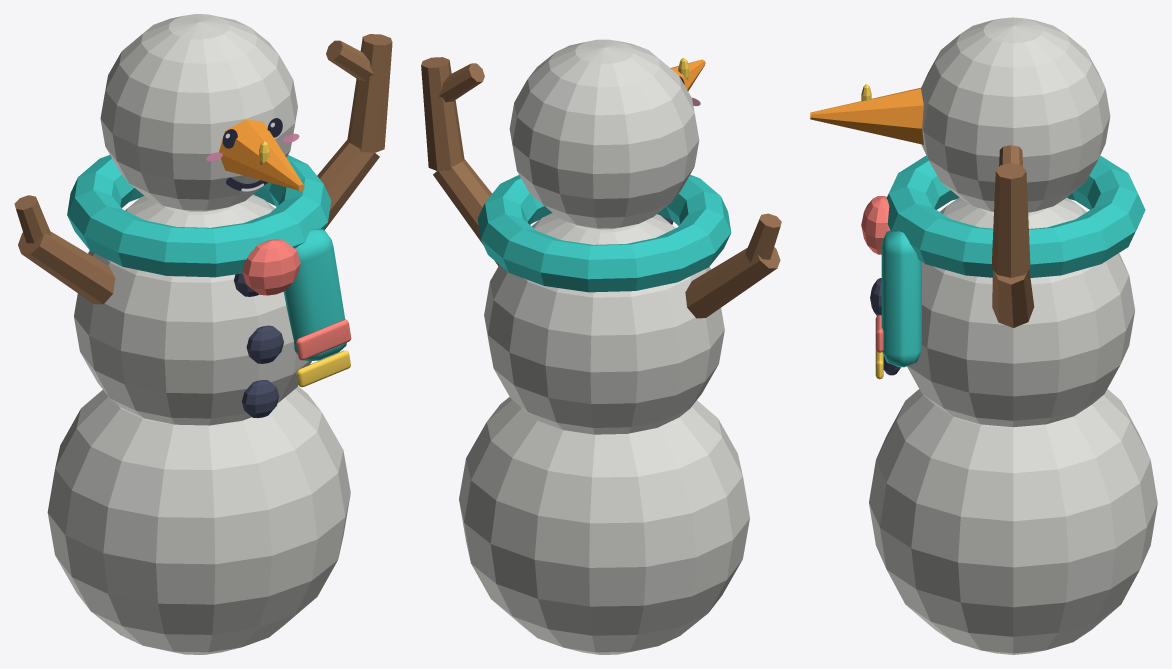
Rendered from asset.glb.
3 renders of one model, left to right at view 1: azimuth 30°, elevation 25°; view 2: azimuth 150°, elevation 25°; view 3: azimuth 270°, elevation 25°, orthographic. The views are drawn at different scales.
Visible parts, largest first — view 1: Snowball | lower, Snowball | middle, Snowball | head, Scarf | teal collar, Scarf | hanging tail, Right arm | raised wave, Left twig arm, Tapered carrot nose, Scarf knot, Right arm | waving upper branch, Scarf | coral woven stripe, Waving twig | fork (+5 smaller); view 2: Snowball | lower, Snowball | middle, Snowball | head, Scarf | teal collar, Right arm | raised wave, Left twig arm, Right arm | waving upper branch, Left twig fork, Waving twig | fork; view 3: Snowball | lower, Snowball | middle, Snowball | head, Scarf | teal collar, Scarf | hanging tail, Right arm | raised wave, Tapered carrot nose, Right arm | waving upper branch, Scarf knot.
Boxes of the visible parts, x1=… form: Snowball | lower: x1=47, y1=386, x2=350, y2=654; Snowball | middle: x1=74, y1=194, x2=311, y2=425; Snowball | head: x1=100, y1=14, x2=297, y2=211; Scarf | teal collar: x1=67, y1=155, x2=331, y2=277; Scarf | hanging tail: x1=283, y1=228, x2=346, y2=361; Right arm | raised wave: x1=347, y1=34, x2=392, y2=152; Left twig arm: x1=18, y1=231, x2=115, y2=304; Tapered carrot nose: x1=219, y1=119, x2=304, y2=190; Scarf knot: x1=242, y1=239, x2=300, y2=295; Right arm | waving upper branch: x1=317, y1=139, x2=379, y2=230; Scarf | coral woven stripe: x1=296, y1=319, x2=351, y2=360; Waving twig | fork: x1=326, y1=40, x2=373, y2=80; Snowball | lower: x1=459, y1=397, x2=749, y2=654; Snowball | middle: x1=484, y1=213, x2=724, y2=434; Snowball | head: x1=509, y1=39, x2=699, y2=229; Scarf | teal collar: x1=477, y1=174, x2=731, y2=292; Right arm | raised wave: x1=421, y1=57, x2=464, y2=170; Left twig arm: x1=685, y1=247, x2=780, y2=318; Right arm | waving upper branch: x1=433, y1=158, x2=498, y2=265; Left twig fork: x1=745, y1=213, x2=781, y2=262; Waving twig | fork: x1=439, y1=63, x2=484, y2=102; Snowball | lower: x1=869, y1=389, x2=1157, y2=654; Snowball | middle: x1=907, y1=197, x2=1135, y2=427; Snowball | head: x1=921, y1=17, x2=1110, y2=212; Scarf | teal collar: x1=886, y1=155, x2=1145, y2=277; Scarf | hanging tail: x1=881, y1=230, x2=921, y2=367; Right arm | raised wave: x1=991, y1=163, x2=1030, y2=277; Tapered carrot nose: x1=810, y1=87, x2=923, y2=144; Right arm | waving upper branch: x1=992, y1=269, x2=1034, y2=327; Scarf knot: x1=861, y1=196, x2=889, y2=254.
Bounding box in the file's own units: 0.9493 × 1.5 × 0.77.
8 materials, 1 textured.
